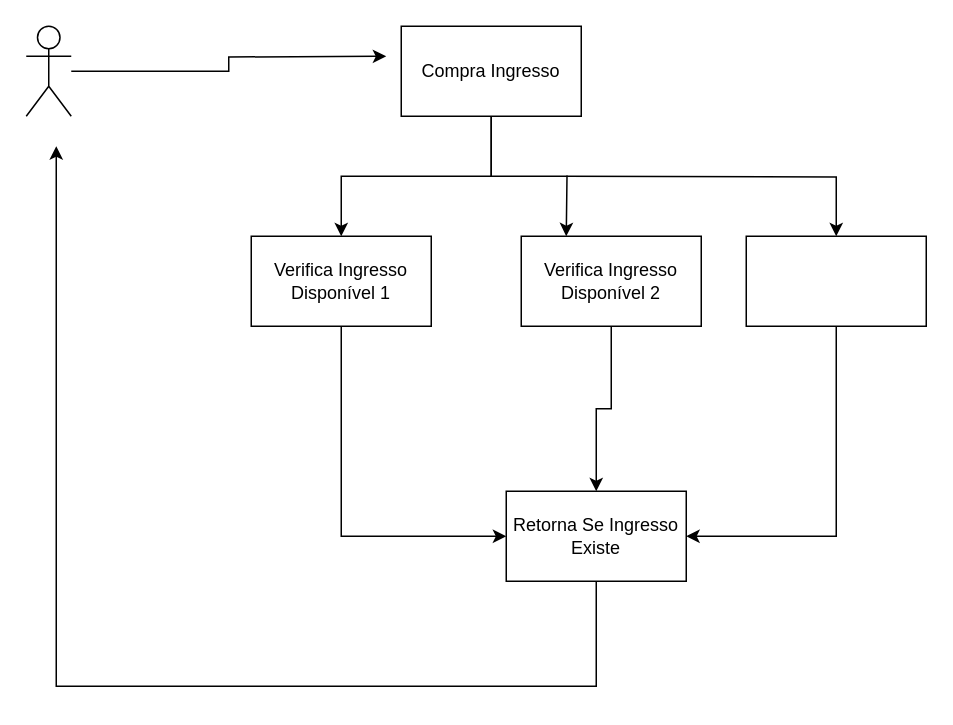
Image size: 953x725. Some labels were removed from this diagram. Here are the shapes that lost their labels. From the top down, the centre of each, then its label:
point (48, 70): Actor
point (835, 280): Verifica Ingresso Disponível 3
